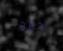seven: (35, 20, 42, 31)
six: (27, 19, 34, 31)
three: (18, 19, 25, 30)
